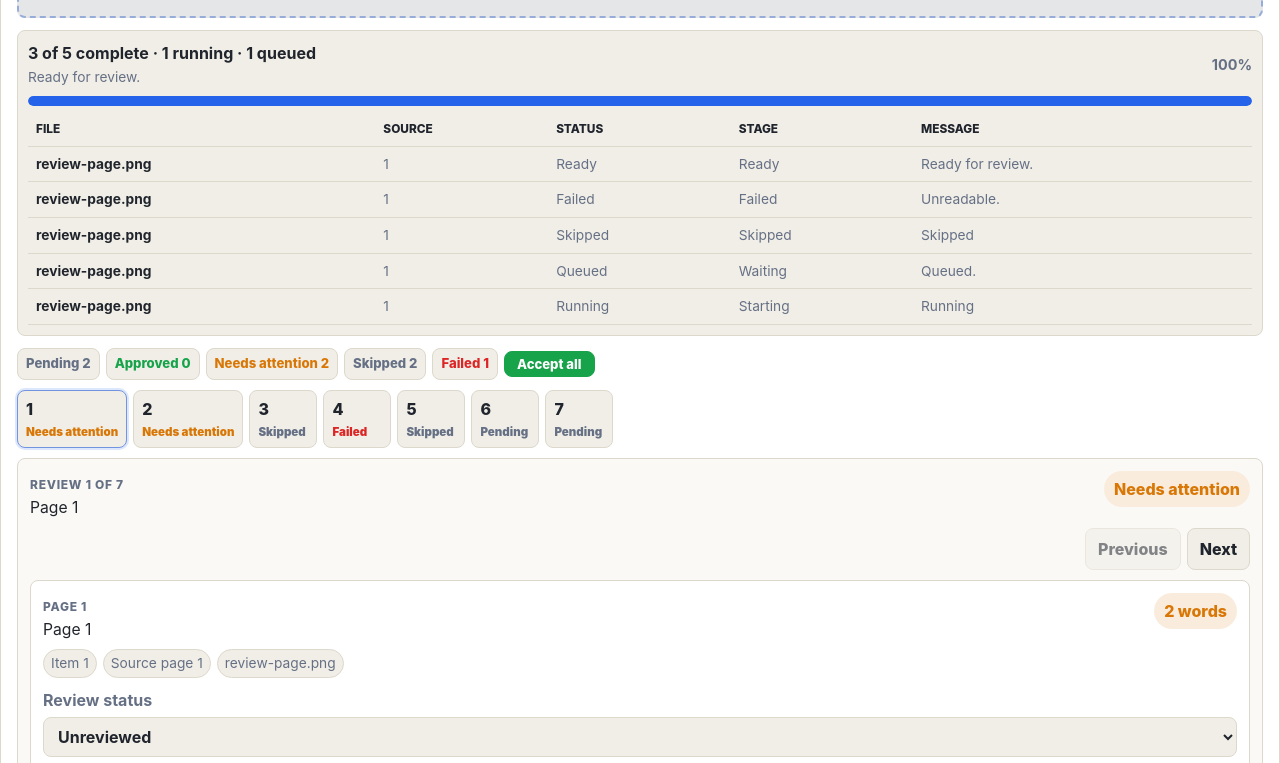
Test case: OcrReview › reviews all pending OCR pages without changing failed, skipped, queued, or running items
(page scrolled)
Expected: the text "Pending 2" is shown, [17,348,100,380]
Expected: the text "Needs attention 2" is shown, [206,348,338,380]
Click the button "Accept all" at (549, 364), box [504,351,594,377]
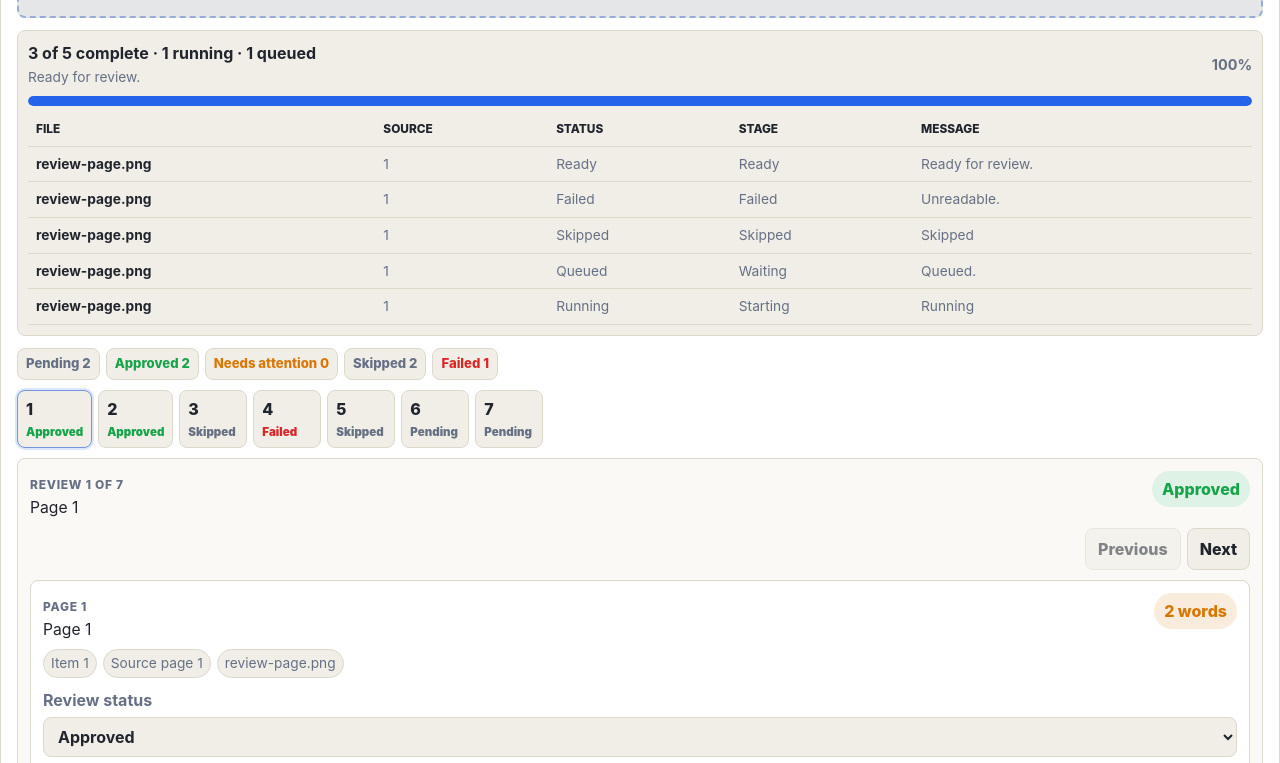
Expected: the text "Approved 2" is shown, [106,348,199,380]
Expected: the text "Needs attention 0" is shown, [205,348,338,380]
Expected: the button "Accept all" is gone
